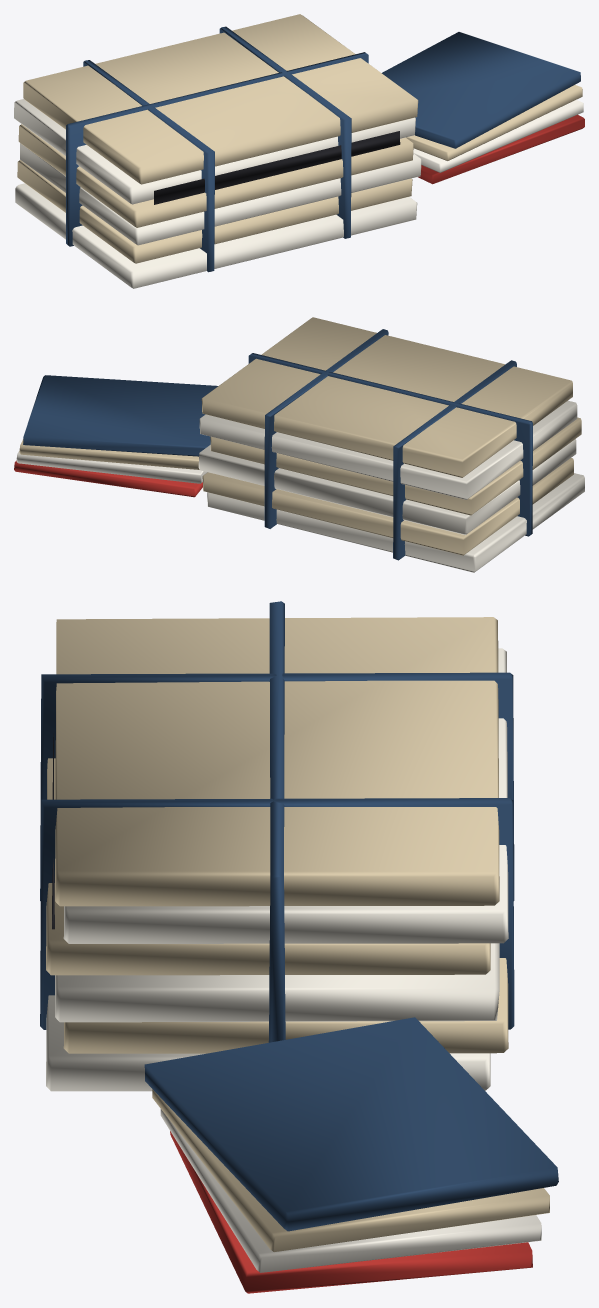
File: newspaper_stack.glb
3 views of the same model, one above another, from view 1: azimuth 30°, elevation 25°; view 2: azimuth 150°, elevation 25°; view 3: azimuth 270°, elevation 25° (orthographic). The views are drawn at different scales.
Visible parts, largest first — view 1: newspaper_stack; view 2: newspaper_stack; view 3: newspaper_stack.
Part boxes in pixels (bbox=[...]): newspaper_stack: bbox=[14, 14, 584, 288]; newspaper_stack: bbox=[14, 317, 584, 572]; newspaper_stack: bbox=[40, 601, 558, 1293].
Size of the model in its own units: 0.7567 by 0.17 by 0.35.
